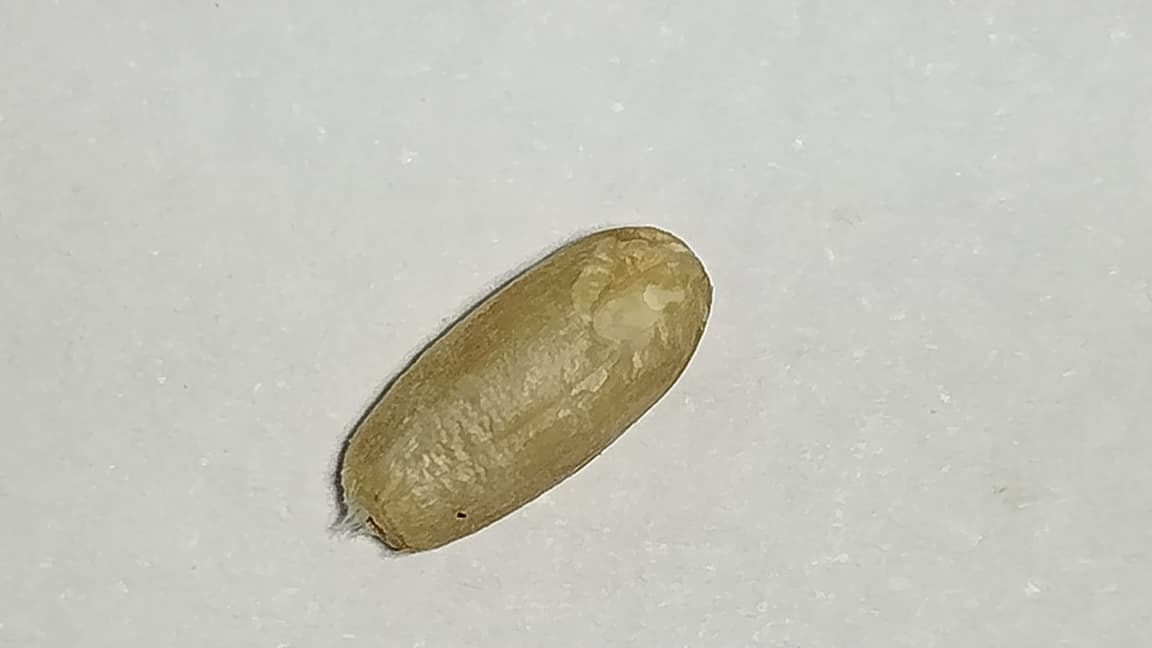healthy: (342, 227, 711, 543)
